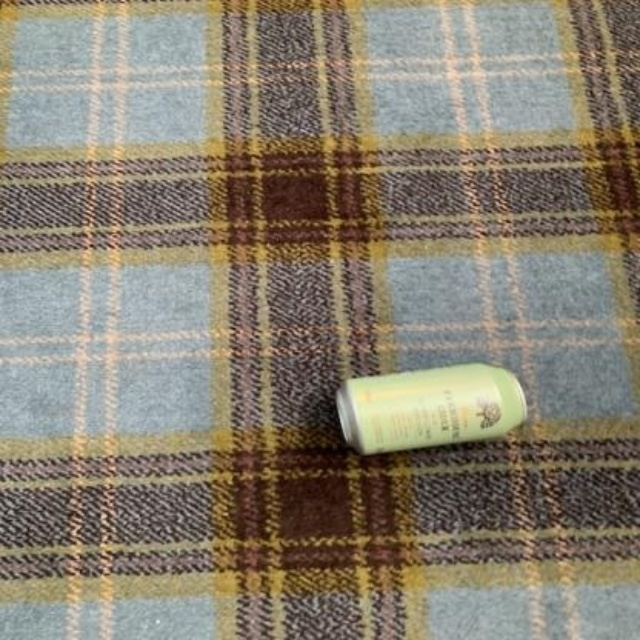trash: (337, 363, 525, 454)
